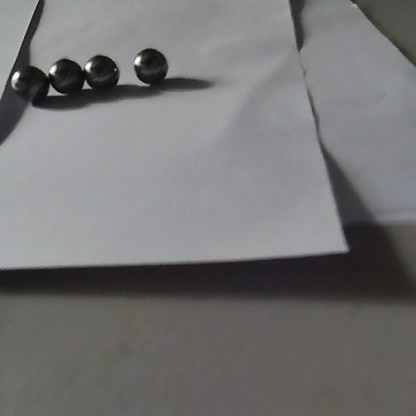ironball: (47, 56, 86, 94), (81, 54, 120, 90), (132, 46, 168, 84), (11, 65, 48, 100)
